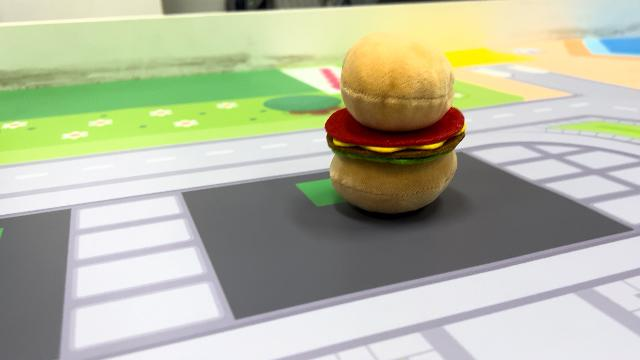burger: (320, 28, 470, 217)
